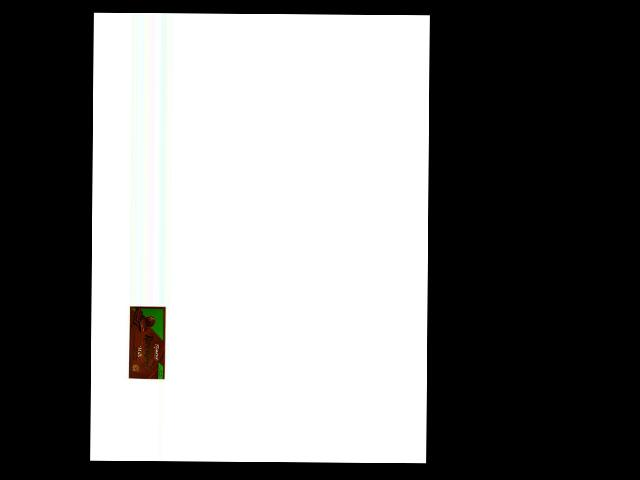chocolate: (125, 305, 166, 382)
